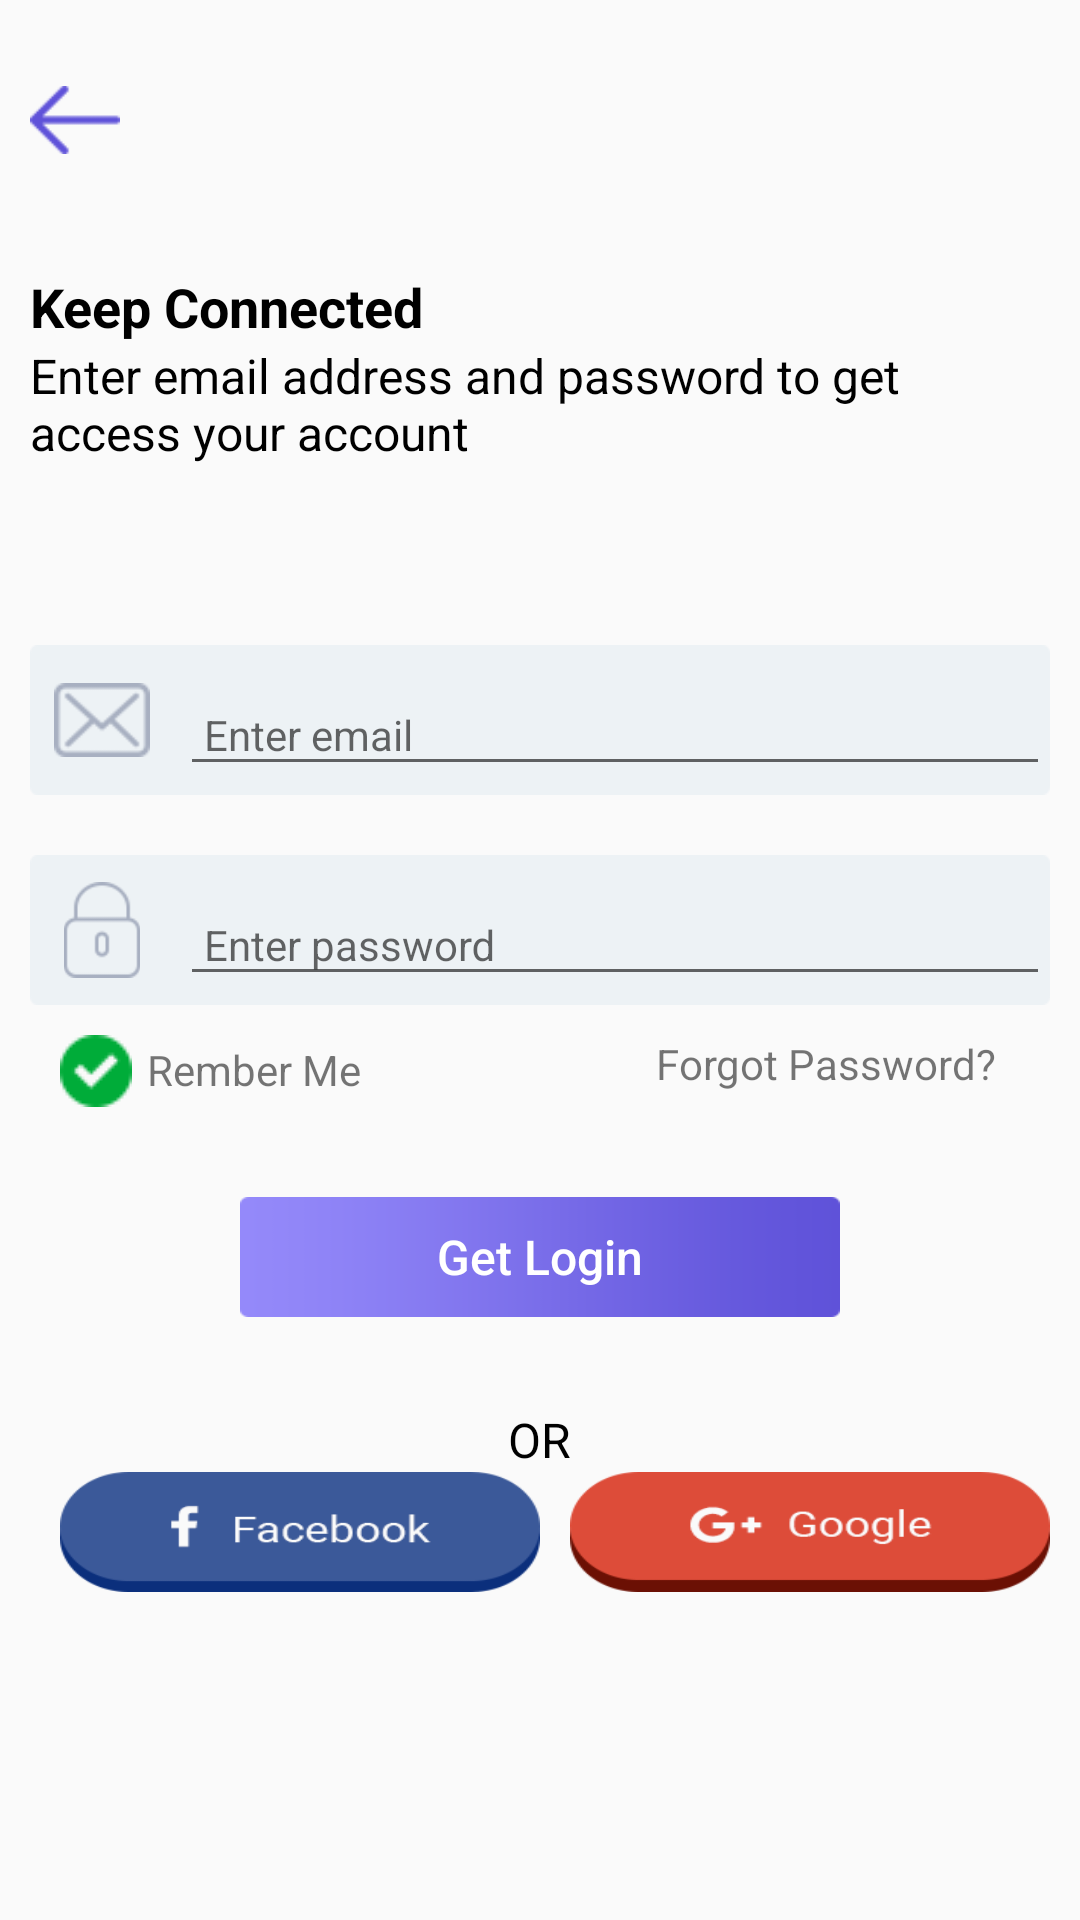

Screen size 1080w x 1920h. Icon name, then its box in pixels as (x1, y1, x2, y2):
arrow left: (30, 86, 120, 154)
check: (60, 1035, 132, 1107)
email: (54, 683, 150, 757)
password: (64, 882, 140, 978)
